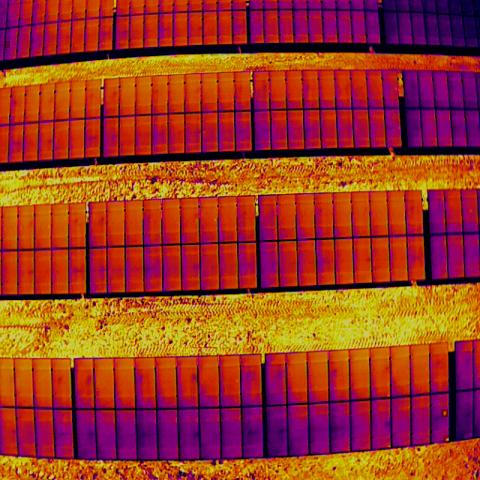fault: (441, 409, 448, 417), (443, 435, 450, 443), (5, 41, 10, 48)
